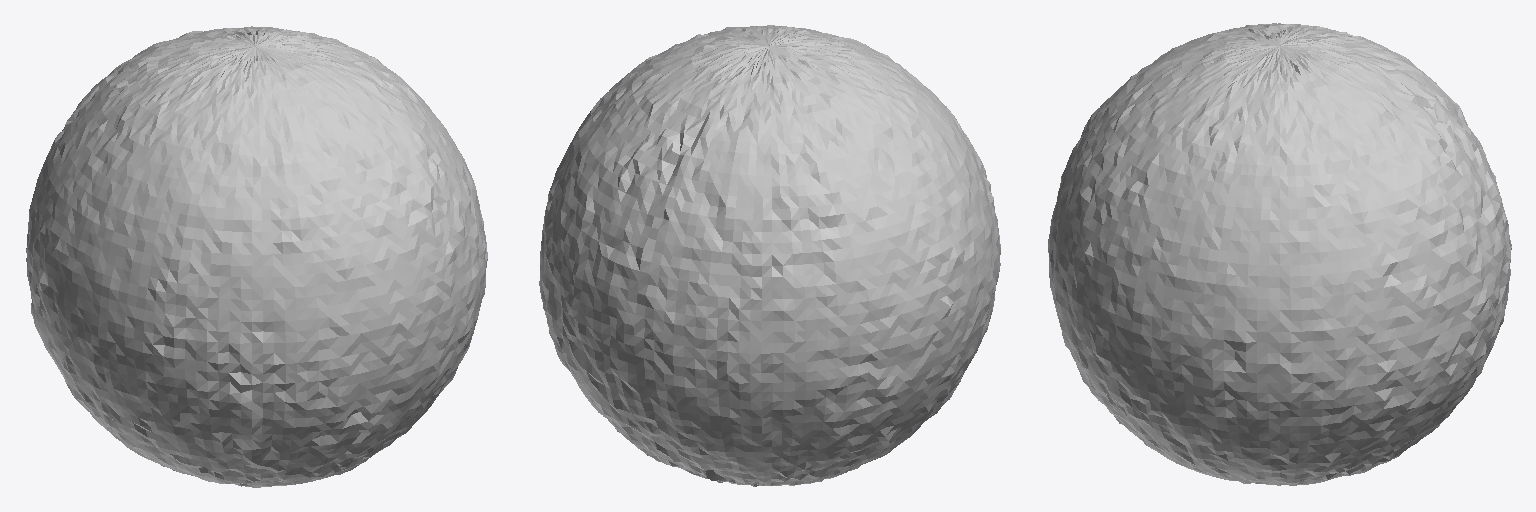
The model's file is Planet.obj.
3 renders of one model, left to right at view 1: azimuth 30°, elevation 25°; view 2: azimuth 150°, elevation 25°; view 3: azimuth 270°, elevation 25°, orthographic.
Visible parts, largest first — view 1: Sphere; view 2: Sphere; view 3: Sphere.
Boxes of the visible parts, x1=… form: Sphere: x1=26, y1=26, x2=487, y2=487; Sphere: x1=539, y1=25, x2=1000, y2=486; Sphere: x1=1048, y1=23, x2=1511, y2=485.
Bounding box in the file's own units: 3.99 × 4.01 × 4.